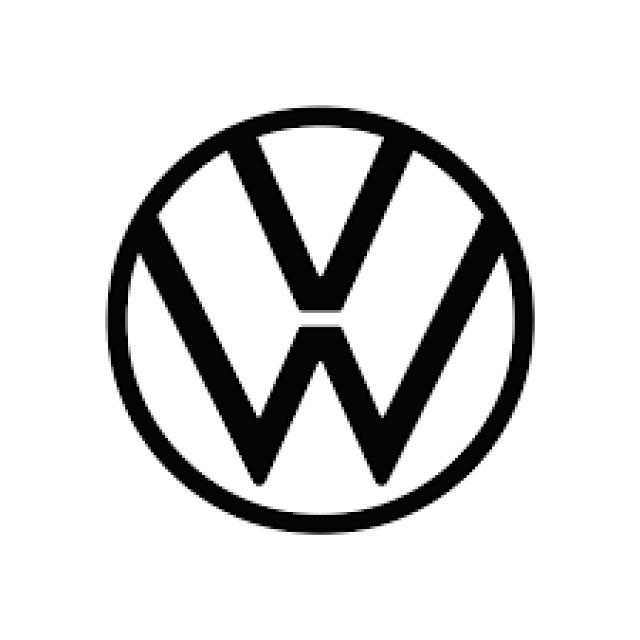wolksvogen: (98, 97, 546, 541)
